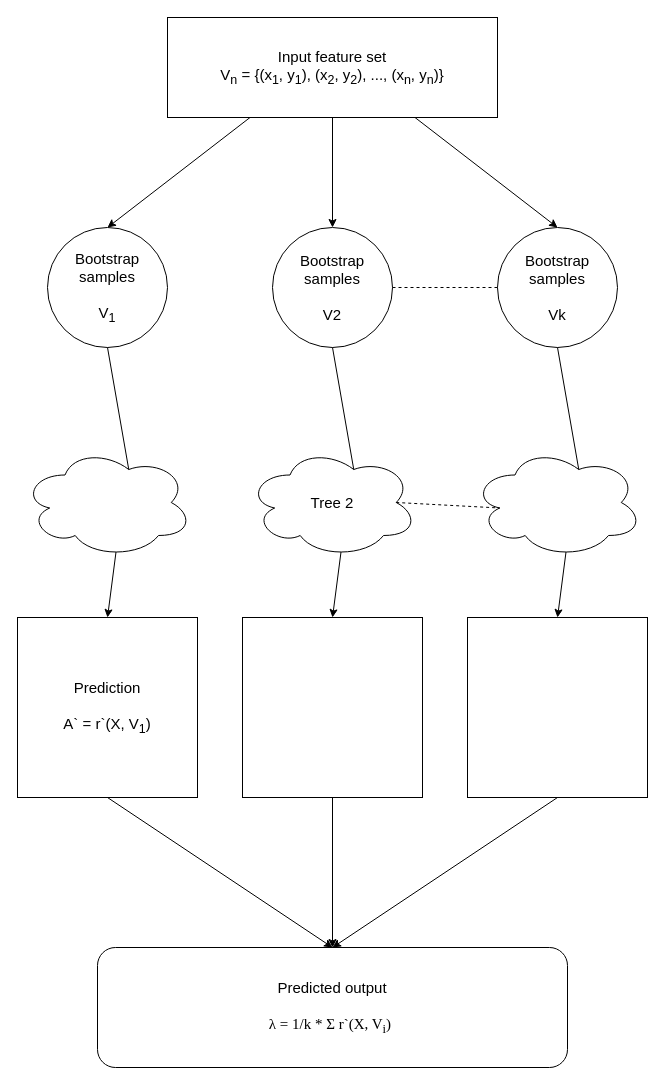
Some shapes in this 665 by 1085 pixel diagram are drawn without their labels. The centre of each missing label's shape, as x and y in pixels:
"Prediction A` = r`(X, V 2 )" goes at (x=332, y=707).
"Prediction A` = r`(X, V k )" goes at (x=557, y=707).
"Tree 1" goes at (x=107, y=502).
"Tree k" goes at (x=557, y=502).
